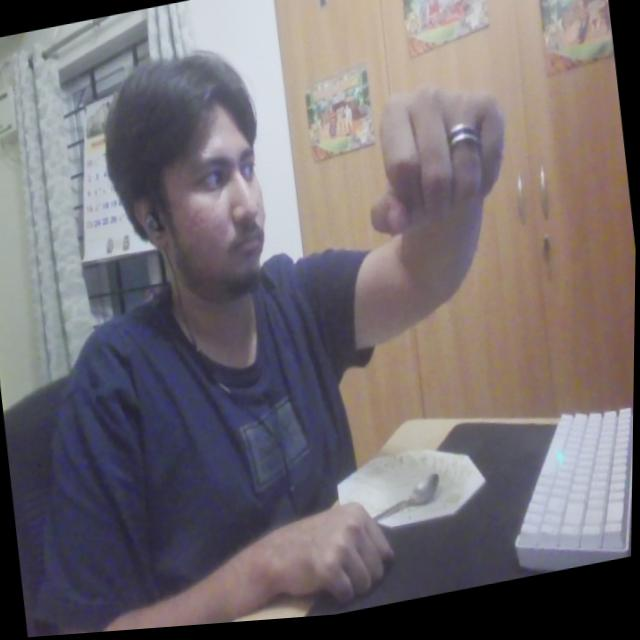yes: (348, 63, 531, 272)
